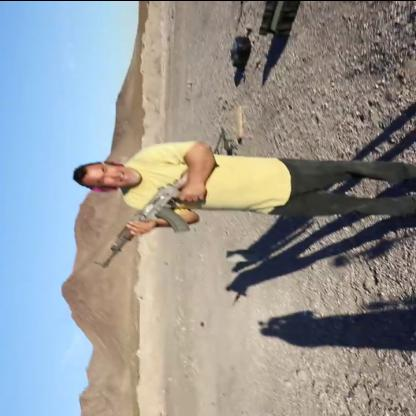long weapon: (93, 154, 209, 276)
